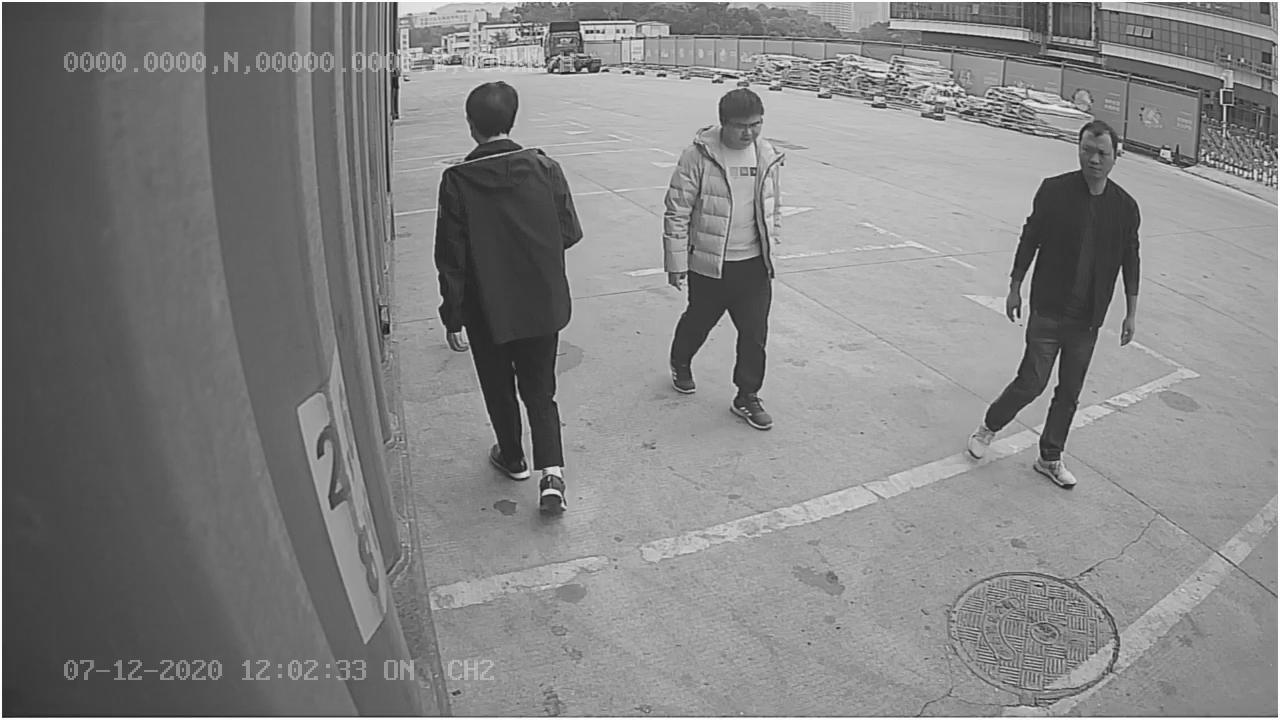person: (431, 73, 588, 513), (963, 115, 1141, 495), (662, 83, 795, 434)
